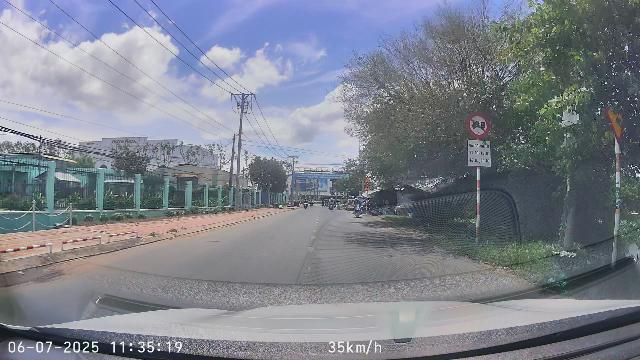106-cam-oto-tai: (467, 112, 490, 138)
